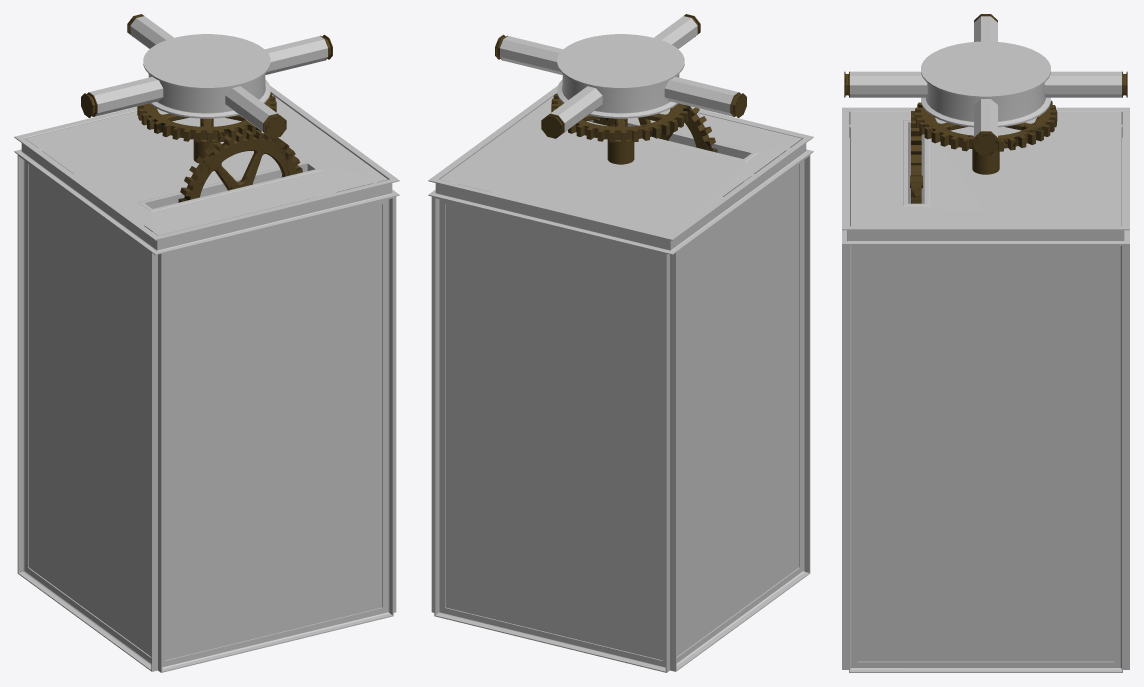
File: PlatformHazard4Arm.fbx
3 renders of one model, left to right at view 1: azimuth 30°, elevation 25°; view 2: azimuth 150°, elevation 25°; view 3: azimuth 270°, elevation 25°, orthographic. The views are drawn at different scales.
Parts seen in each view (by area): view 1: PlatformHazard4Arm, PlatformCircularLarge1, GearLarge; view 2: PlatformHazard4Arm, PlatformCircularLarge1, GearLarge; view 3: PlatformHazard4Arm, PlatformCircularLarge1, GearLarge.
Boxes of the visible parts, <box> form: PlatformHazard4Arm: <box>14,85,399,672</box>; PlatformCircularLarge1: <box>81,14,332,163</box>; GearLarge: <box>178,130,302,202</box>; PlatformHazard4Arm: <box>428,85,813,672</box>; PlatformCircularLarge1: <box>495,14,746,164</box>; GearLarge: <box>593,107,717,152</box>; PlatformHazard4Arm: <box>842,107,1129,672</box>; PlatformCircularLarge1: <box>844,14,1127,174</box>; GearLarge: <box>910,111,922,203</box>.
Bounding box in the file's own units: 500 × 1041 × 500.
